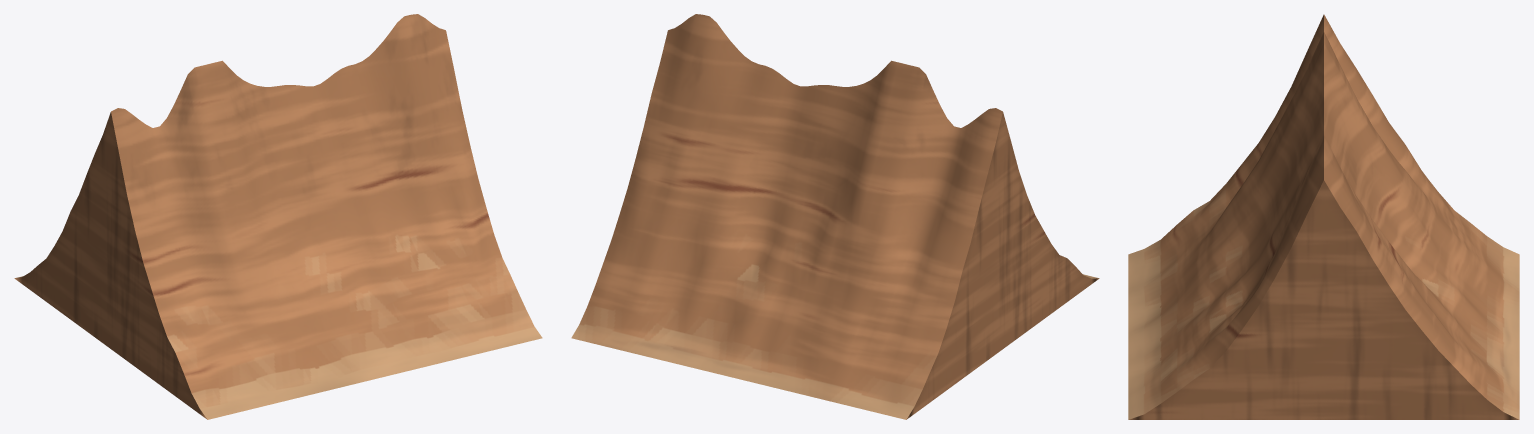
Rendered from ridge-desert.fbx.
The picture shows the model from 3 angles, left to right: view 1: azimuth 30°, elevation 25°; view 2: azimuth 150°, elevation 25°; view 3: azimuth 270°, elevation 25°; orthographic projection.
Visible parts, largest first — view 1: ridge-desert; view 2: ridge-desert; view 3: ridge-desert.
Boxes of the visible parts, x1=… form: ridge-desert: x1=14, y1=14, x2=542, y2=419; ridge-desert: x1=571, y1=14, x2=1099, y2=419; ridge-desert: x1=1128, y1=14, x2=1519, y2=419.
Size of the model in its own units: 2000 by 1490 by 2000.
1 material, 1 textured.
